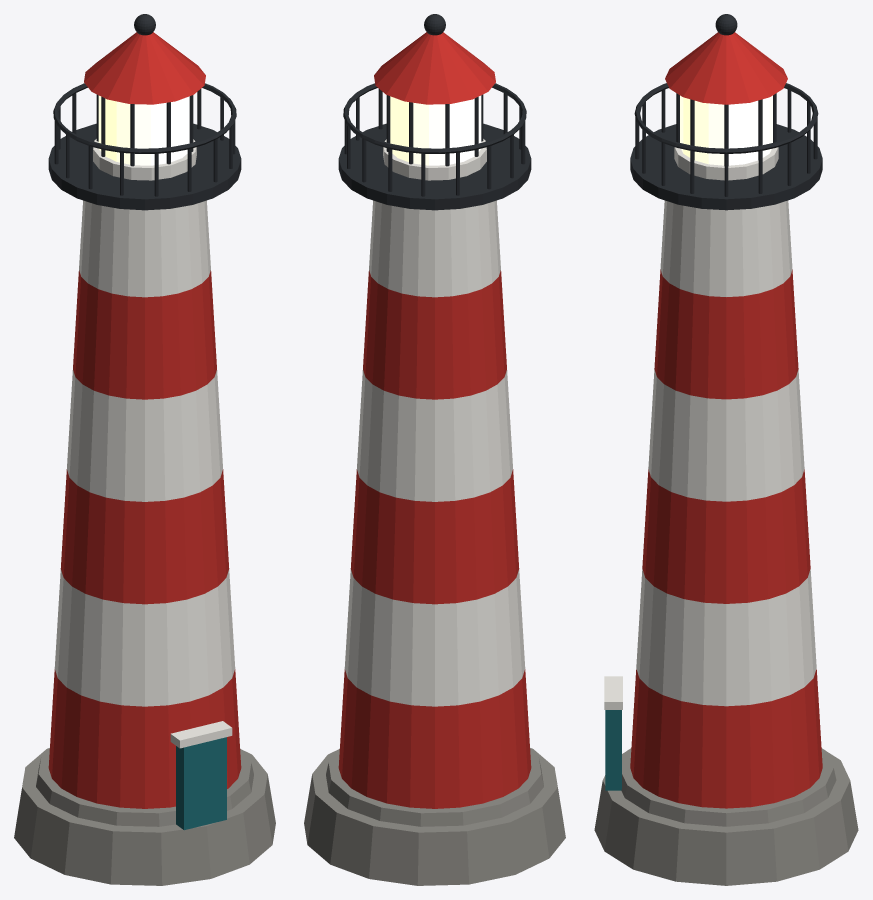
Rendered from lighthouse.glb.
The picture shows the model from 3 angles, left to right: view 1: azimuth 30°, elevation 25°; view 2: azimuth 150°, elevation 25°; view 3: azimuth 270°, elevation 25°; orthographic projection.
Visible parts, largest first — view 1: lighthouse; view 2: lighthouse; view 3: lighthouse.
Part boxes in pixels (x1=…): lighthouse: x1=14, y1=14, x2=275, y2=885; lighthouse: x1=304, y1=14, x2=565, y2=885; lighthouse: x1=594, y1=14, x2=858, y2=885.
Bounding box in the file's own units: 4.8 × 16.35 × 4.8.
